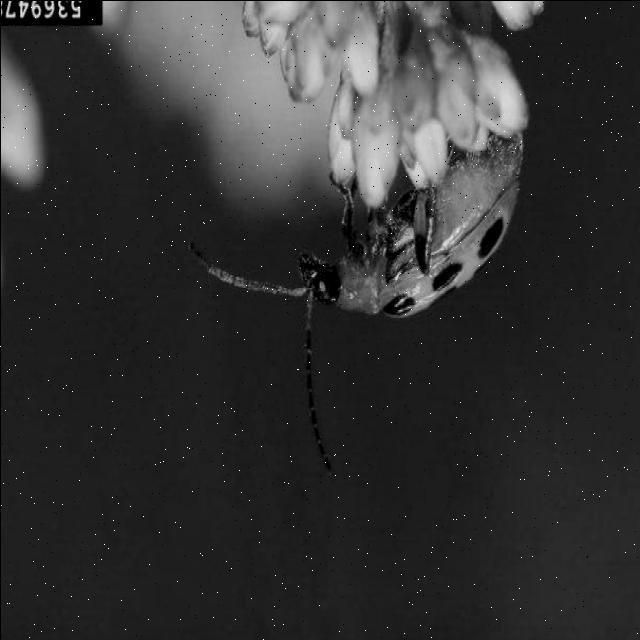gusano_verde: (179, 96, 527, 472)
